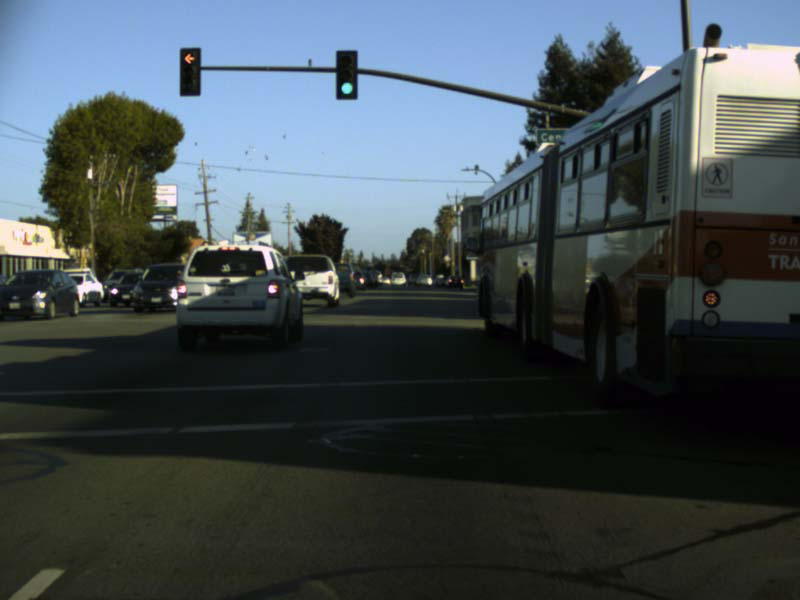Green: (336, 50, 356, 98)
Red: (178, 48, 199, 94)
